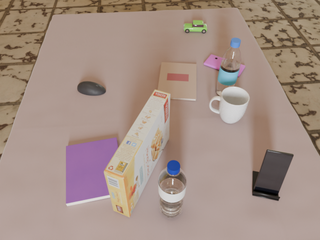book: (66, 138, 118, 206), (158, 62, 196, 101)
bottle: (159, 160, 187, 219), (216, 38, 241, 96)
box: (104, 90, 170, 217)
cup: (209, 86, 249, 123)
mouse: (77, 81, 106, 95)
phone: (254, 150, 294, 195), (204, 55, 245, 77)
toy_car: (184, 20, 207, 33)
